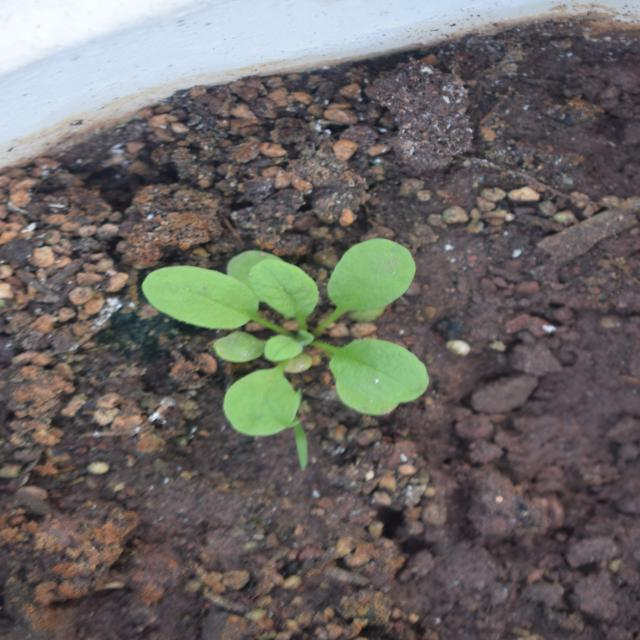Shepherd_Purse: (205, 138, 422, 435)
